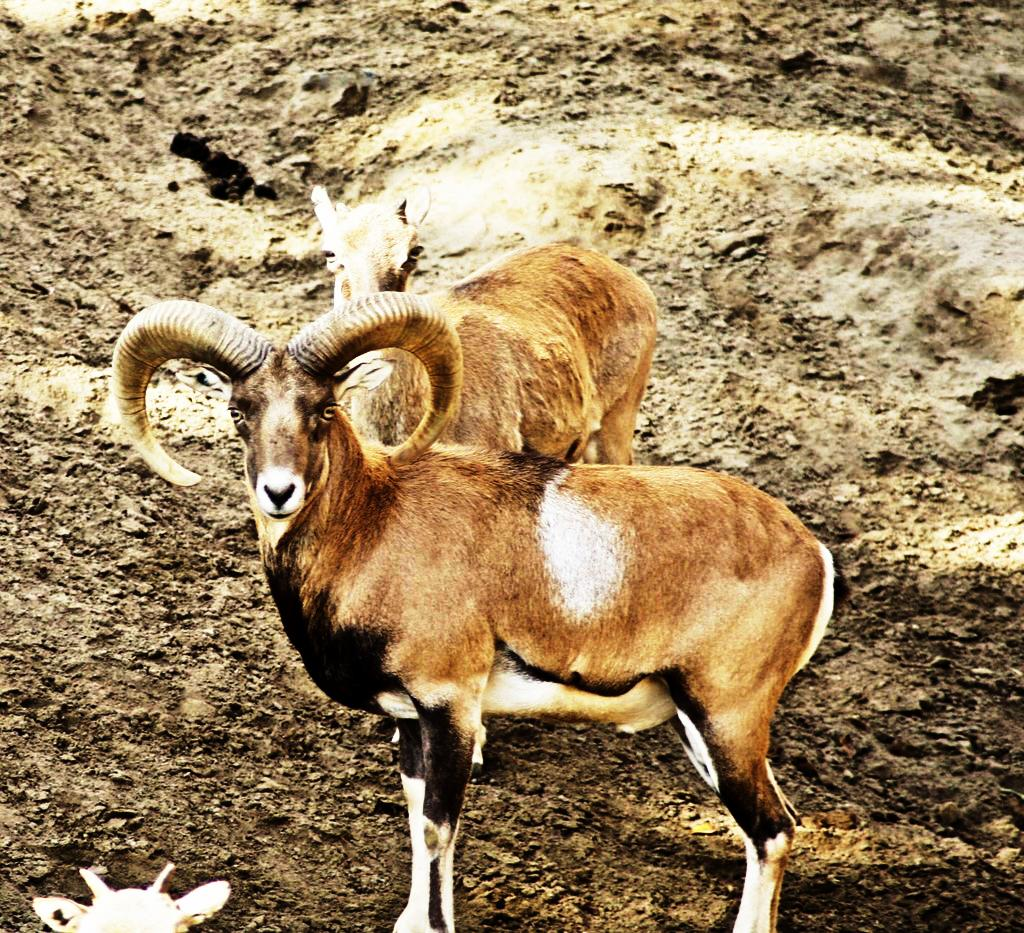Sheep: (110, 293, 835, 932)
